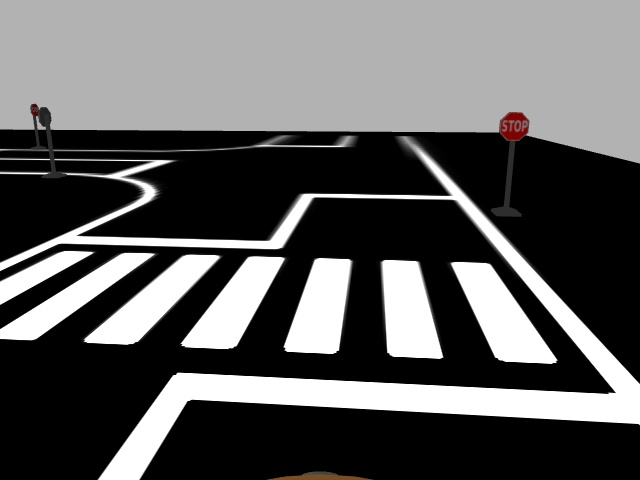stop: (495, 111, 532, 141)
